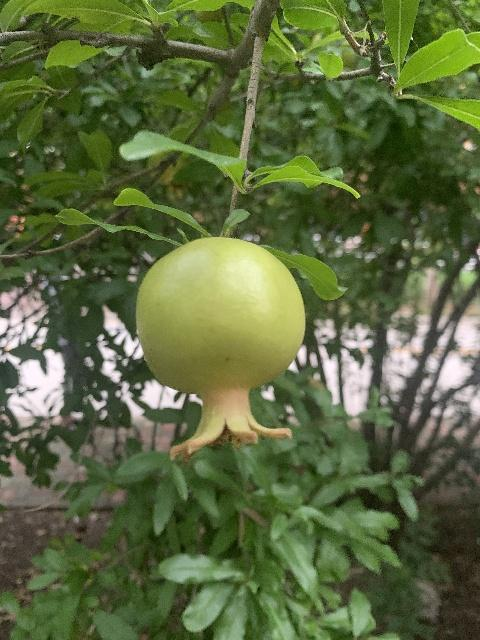mid-growth: (134, 236, 305, 461)
